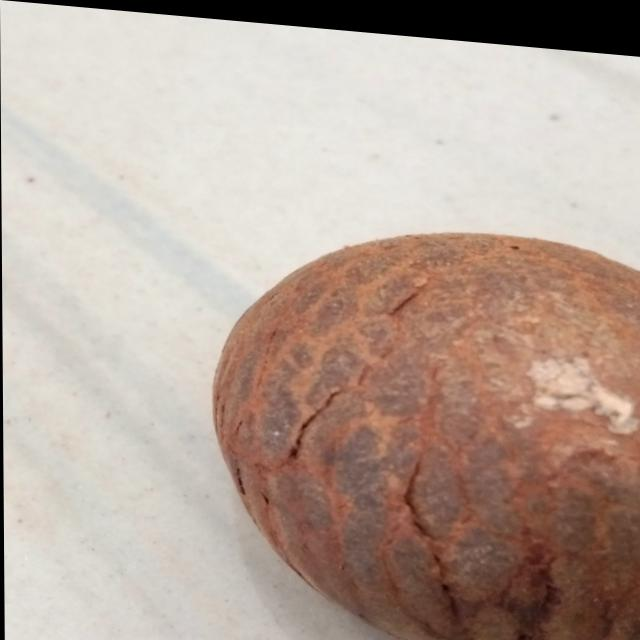karigot: (195, 190, 640, 640)
